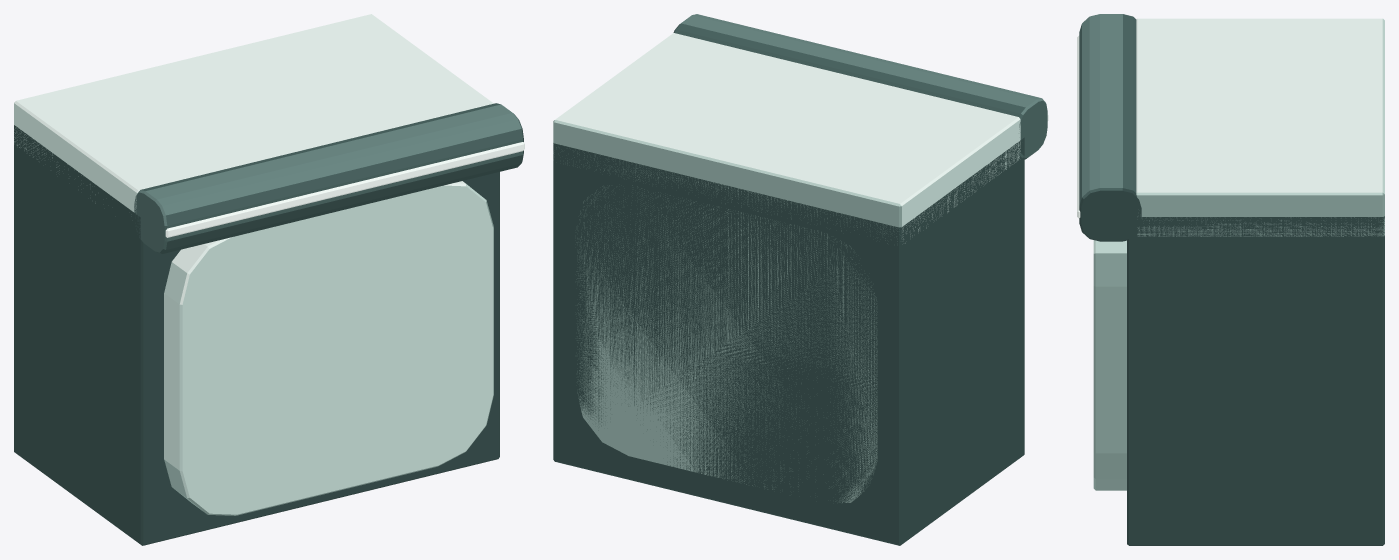
Rendered from Terrain_TopRun1.gltf.
The picture shows the model from 3 angles, left to right: view 1: azimuth 30°, elevation 25°; view 2: azimuth 150°, elevation 25°; view 3: azimuth 270°, elevation 25°; orthographic projection. The views are drawn at different scales.
Visible parts, largest first — view 1: Terrain_TopRun1_baked; view 2: Terrain_TopRun1_baked; view 3: Terrain_TopRun1_baked.
Boxes of the visible parts, x1,y1,x2,y2 form: Terrain_TopRun1_baked: (14, 14, 524, 545); Terrain_TopRun1_baked: (553, 14, 1048, 545); Terrain_TopRun1_baked: (1077, 14, 1384, 545).
Size of the model in its own units: 1 by 0.9495 by 0.74.
